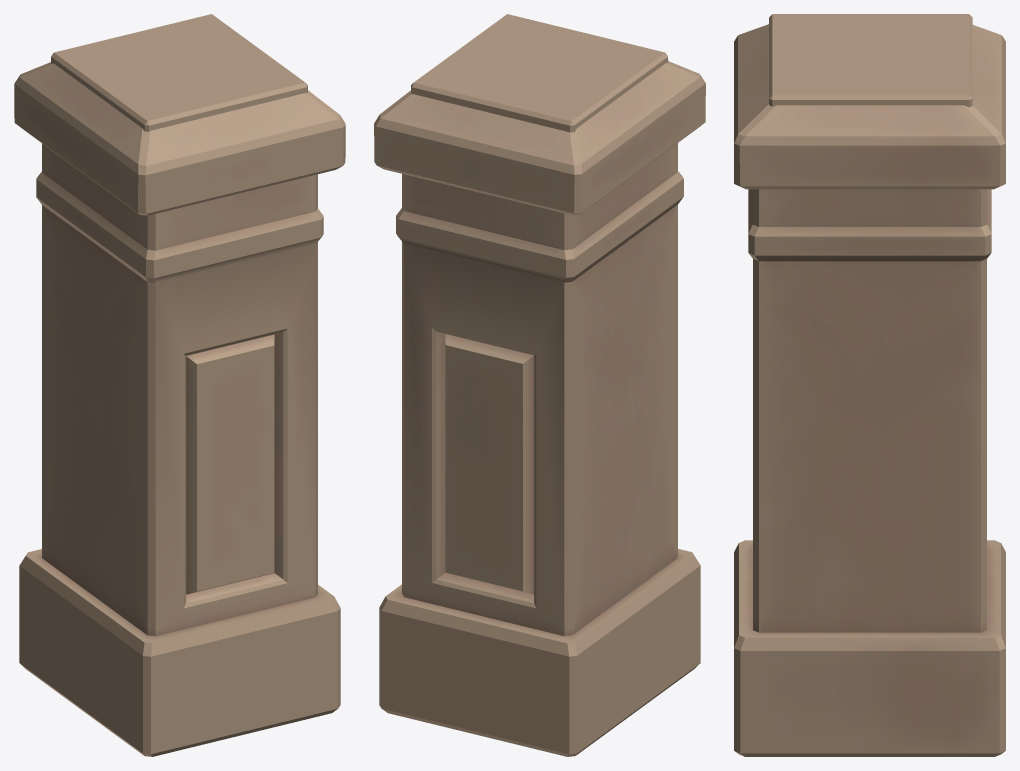
File: ColumnStump (7).fbx
3 views of the same model, side by side, from view 1: azimuth 30°, elevation 25°; view 2: azimuth 150°, elevation 25°; view 3: azimuth 270°, elevation 25° (orthographic). The views are drawn at different scales.
Parts seen in each view (by area): view 1: ColumnStump (7), column2Top (1); view 2: ColumnStump (7), column2Top (1); view 3: ColumnStump (7), column2Top (1).
Part boxes in pixels (bbox=[...]): ColumnStump (7): bbox=[14, 62, 345, 756]; column2Top (1): bbox=[51, 14, 307, 131]; ColumnStump (7): bbox=[374, 61, 705, 756]; column2Top (1): bbox=[411, 14, 668, 132]; ColumnStump (7): bbox=[734, 24, 1005, 756]; column2Top (1): bbox=[769, 14, 972, 107].
Bounding box in the file's own units: 197 × 564 × 213.
